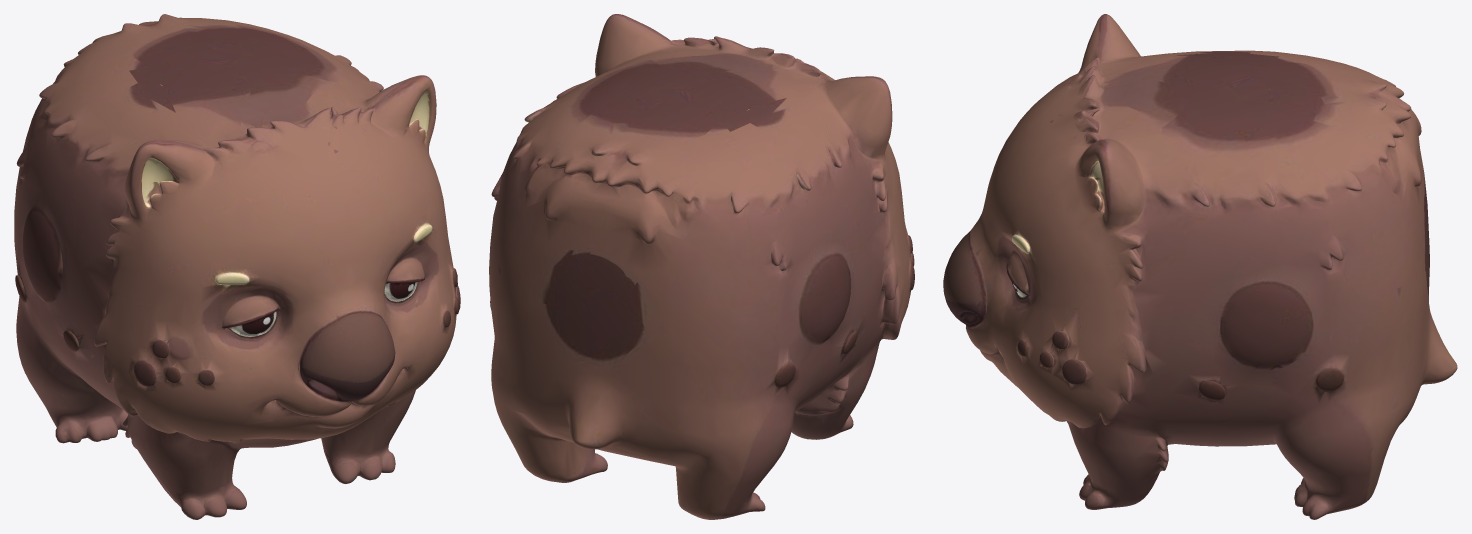
3 views of the same model, side by side, from view 1: azimuth 30°, elevation 25°; view 2: azimuth 150°, elevation 25°; view 3: azimuth 270°, elevation 25° (orthographic). The views are drawn at different scales.
Visible parts, largest first — view 1: Mesh_0; view 2: Mesh_0; view 3: Mesh_0.
Boxes of the visible parts, bbox=[...] form: Mesh_0: bbox=[14, 14, 460, 519]; Mesh_0: bbox=[489, 14, 914, 519]; Mesh_0: bbox=[943, 14, 1457, 519].
Bounding box in the file's own units: 1.46 × 1.55 × 1.9.
1 material, 1 textured.
